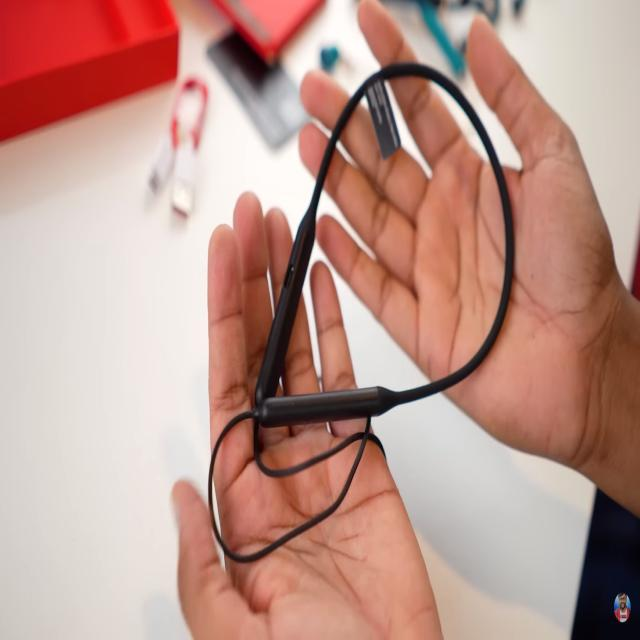Neckband: (207, 60, 515, 567)
